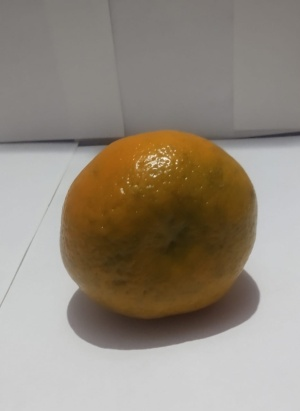BAD: (57, 129, 259, 323)
